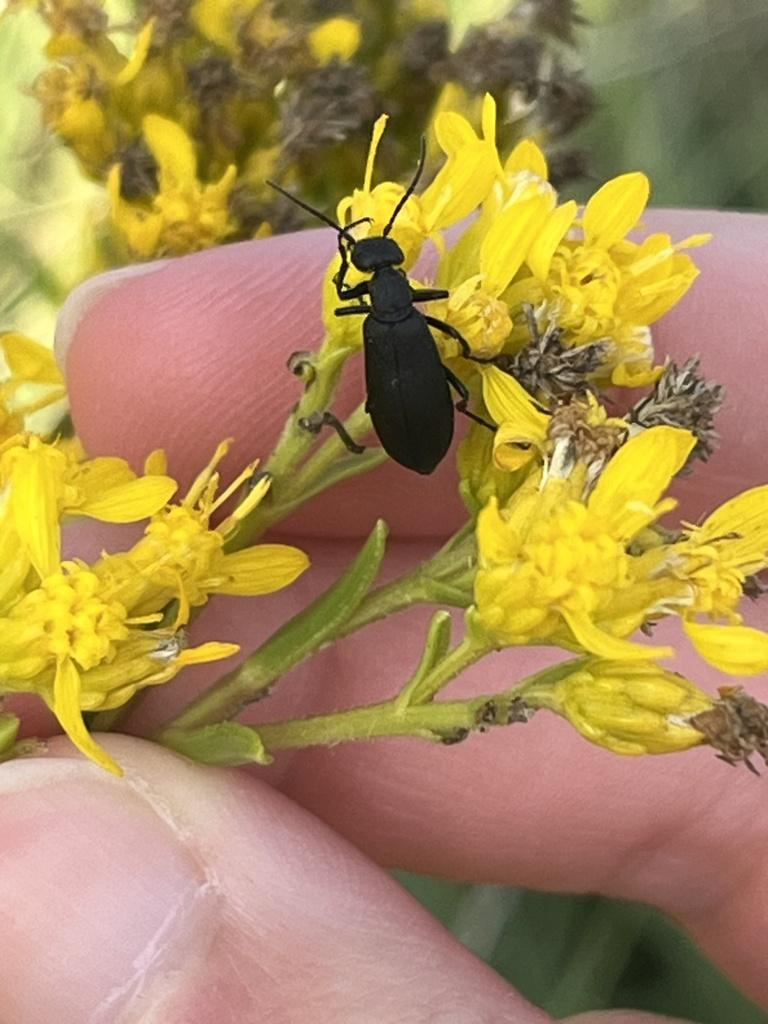blister_beetle: (215, 90, 576, 516)
